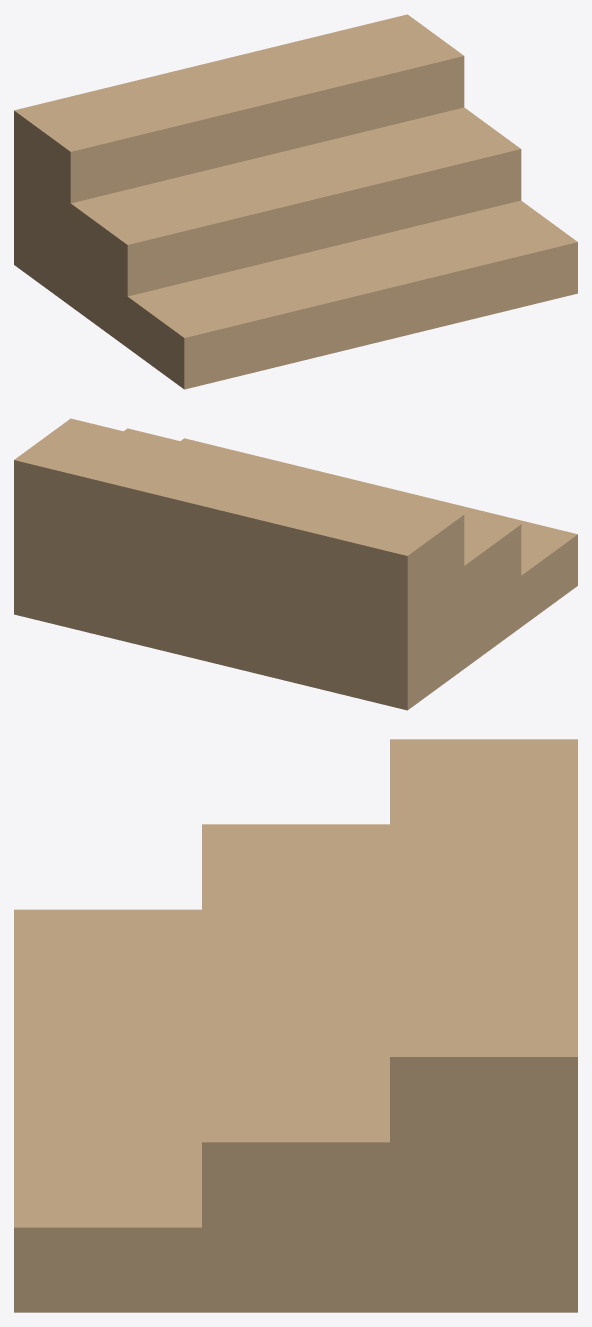
The model's file is feudal-japan-castle-town-veranda-stair-0c5049b9__26341.glb.
The picture shows the model from 3 angles, top to bottom: view 1: azimuth 30°, elevation 25°; view 2: azimuth 150°, elevation 25°; view 3: azimuth 270°, elevation 25°; orthographic projection. The views are drawn at different scales.
Visible parts, largest first — view 1: veranda-stair; view 2: veranda-stair; view 3: veranda-stair.
Boxes of the visible parts, x1=… form: veranda-stair: x1=14, y1=14, x2=577, y2=389; veranda-stair: x1=14, y1=418, x2=577, y2=710; veranda-stair: x1=14, y1=739, x2=577, y2=1312.
Bounding box in the file's own units: 1.2 × 0.4501 × 0.9.
